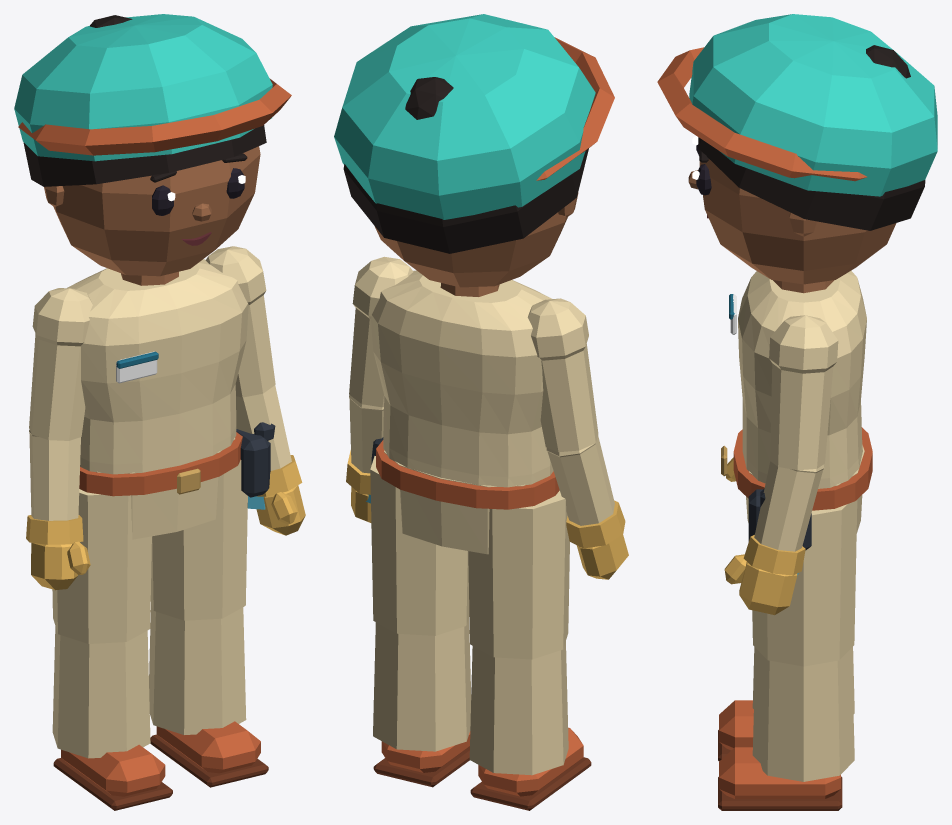
Rendered from rei_dun.glb.
3 renders of one model, left to right at view 1: azimuth 30°, elevation 25°; view 2: azimuth 150°, elevation 25°; view 3: azimuth 270°, elevation 25°, orthographic.
Visible parts, largest first — view 1: kopfbedeckung, torso, bein_r, bein_l, kopf, arm_r, arm_l, haare, schuh_r, schuh_l, gürtel, becken (+5 smaller); view 2: kopfbedeckung, torso, bein_r, bein_l, arm_r, haare, arm_l, kopf, gürtel, becken, schuh_r, schuh_l (+1 smaller); view 3: kopfbedeckung, bein_l, torso, arm_l, kopf, haare, schuh_l, gürtel, hand_l, schuh_r, accessoire_sprayholster, gesicht.
Part boxes in pixels (left/top/right/bottom): kopfbedeckung: left=14, top=14, right=291, bottom=161; torso: left=67, top=259, right=248, bottom=474; bein_r: left=52, top=489, right=151, bottom=758; bein_l: left=149, top=460, right=247, bottom=734; kopf: left=44, top=146, right=260, bottom=276; arm_r: left=26, top=288, right=92, bottom=544; arm_l: left=205, top=246, right=302, bottom=496; haare: left=23, top=15, right=266, bottom=186; schuh_r: left=53, top=744, right=172, bottom=810; schuh_l: left=150, top=721, right=268, bottom=787; gürtel: left=79, top=432, right=242, bottom=496; becken: left=96, top=438, right=235, bottom=539; kopfbedeckung: left=334, top=14, right=614, bottom=219; torso: left=371, top=270, right=553, bottom=487; bein_r: left=468, top=490, right=569, bottom=775; bein_l: left=370, top=456, right=471, bottom=751; arm_r: left=527, top=298, right=625, bottom=548; haare: left=343, top=77, right=588, bottom=253; arm_l: left=346, top=256, right=413, bottom=494; kopf: left=375, top=192, right=578, bottom=287; gürtel: left=376, top=440, right=559, bottom=509; becken: left=384, top=450, right=525, bottom=554; schuh_r: left=470, top=727, right=591, bottom=810; schuh_l: left=373, top=731, right=470, bottom=787; kopfbedeckung: left=657, top=14, right=937, bottom=196; bein_l: left=752, top=500, right=857, bottom=781; torso: left=738, top=270, right=866, bottom=488; arm_l: left=743, top=315, right=838, bottom=575; kopf: left=699, top=159, right=896, bottom=284; haare: left=698, top=45, right=925, bottom=230; schuh_l: left=718, top=747, right=842, bottom=810; gürtel: left=721, top=427, right=872, bottom=510; hand_l: left=724, top=554, right=797, bottom=615; schuh_r: left=718, top=700, right=753, bottom=761; accessoire_sprayholster: left=748, top=488, right=811, bottom=575; gesicht: left=688, top=136, right=711, bottom=218.
Size of the model in its own units: 0.00962 by 0.025 by 0.00856.
